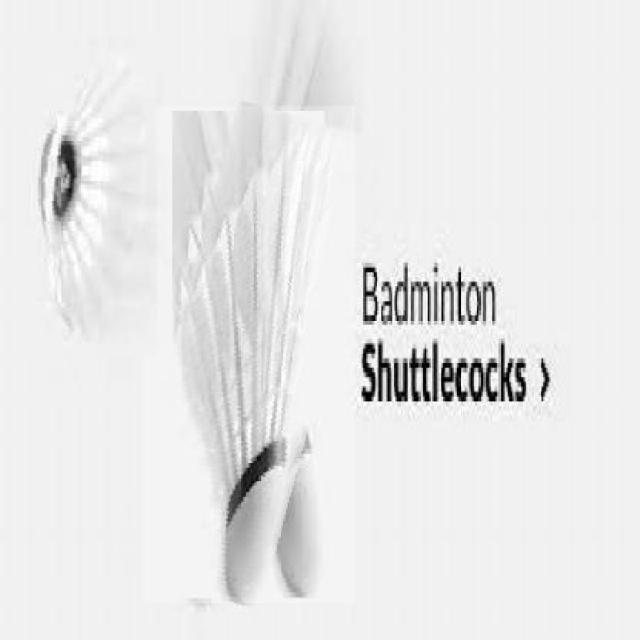Shuttlecock: (145, 106, 357, 603), (28, 49, 157, 357)
